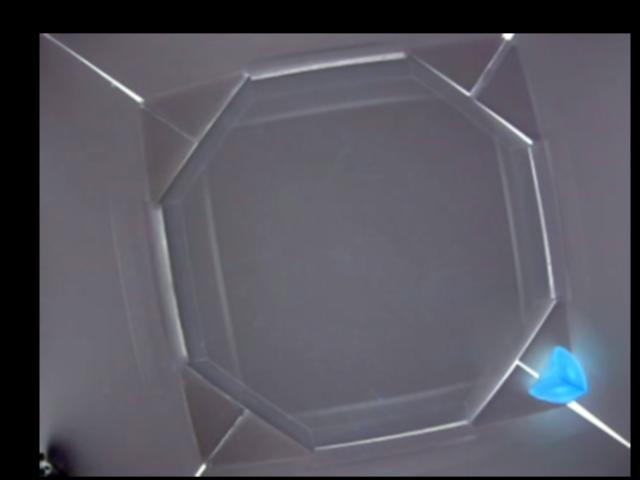Carrot: (527, 346, 586, 403)
